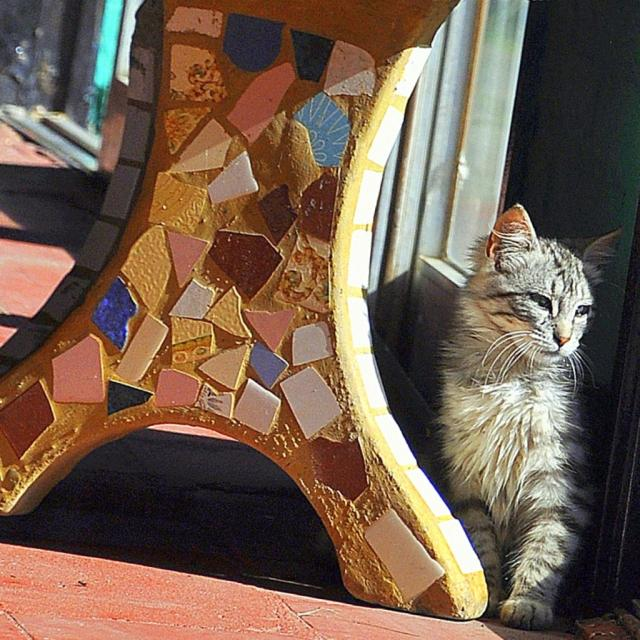Cat: (431, 201, 626, 627)
